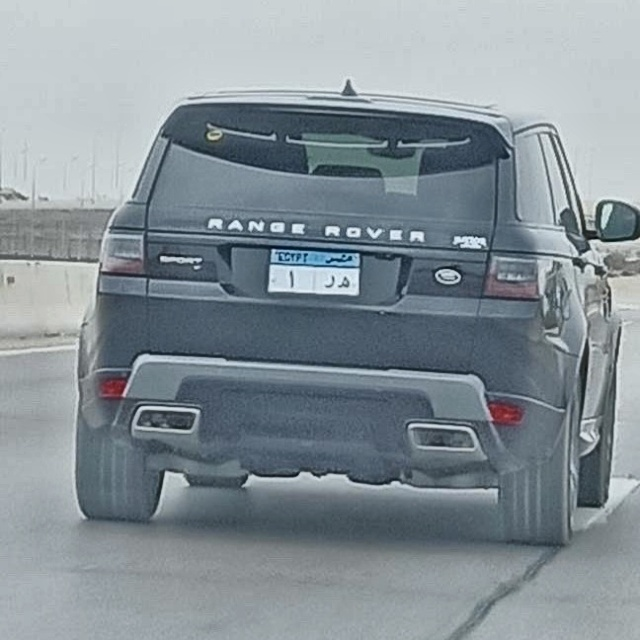License Plate: (266, 247, 362, 298)
